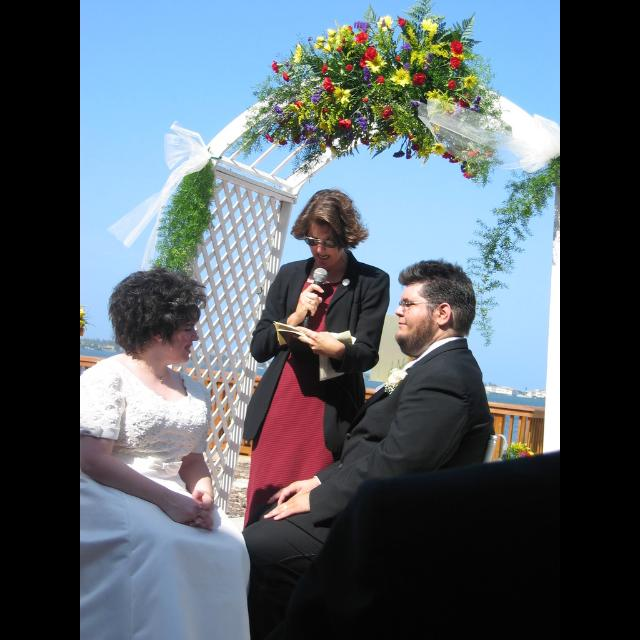Flower: (261, 18, 501, 174), (417, 18, 441, 32)
